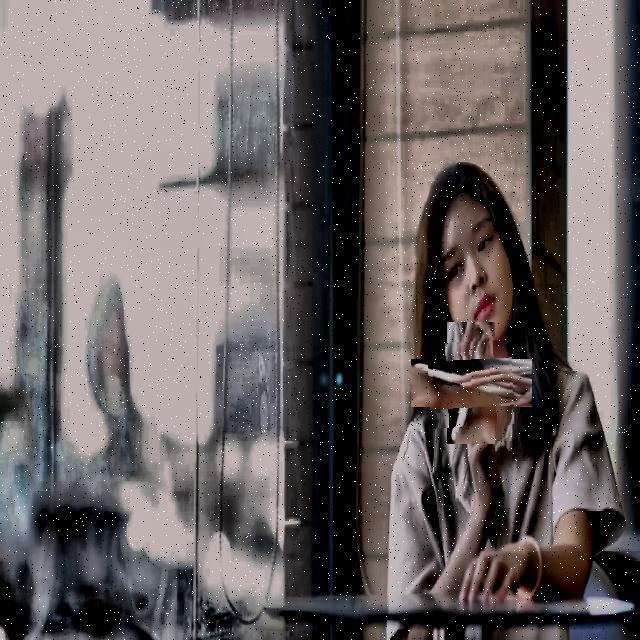Phone: (428, 340, 514, 427)
